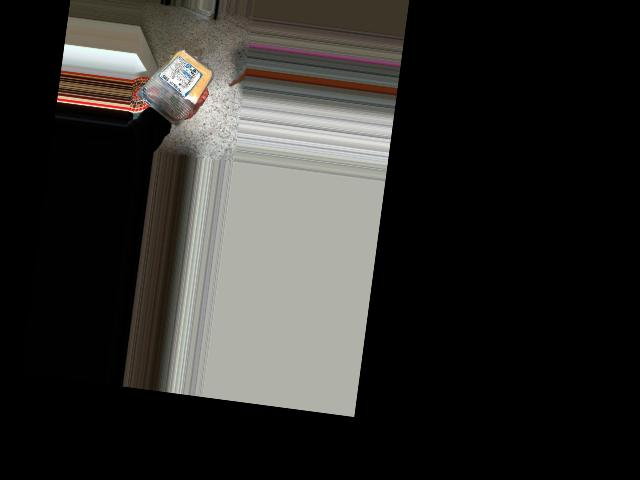cheese: (140, 42, 211, 121)
